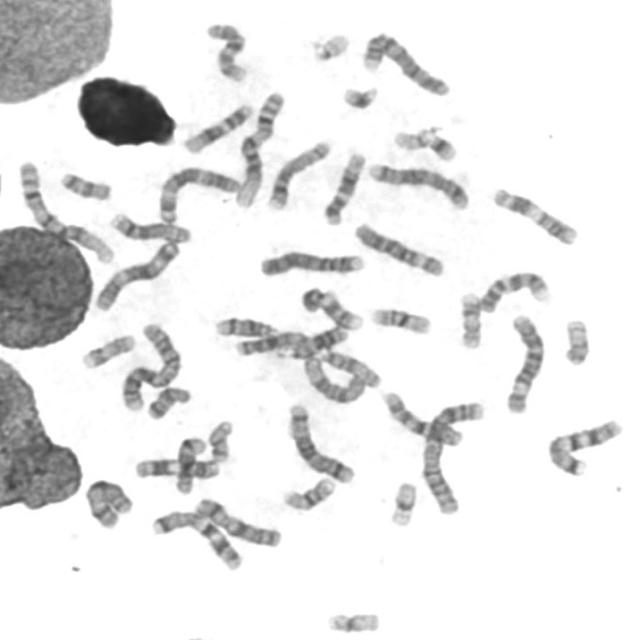A1: (13, 155, 119, 266), (232, 87, 288, 210)
A2: (418, 395, 490, 517), (116, 317, 185, 413)
A3: (90, 235, 184, 313), (155, 161, 245, 225)
B4: (359, 27, 454, 98), (257, 246, 368, 278)
B5: (284, 397, 358, 485), (364, 157, 474, 211)
C10: (378, 384, 468, 449), (202, 18, 252, 84)
C11: (489, 182, 583, 248), (130, 452, 224, 481)
C12: (179, 97, 258, 156), (320, 146, 369, 226)
C6: (350, 218, 449, 278), (500, 309, 549, 415)
C7: (148, 505, 246, 573), (542, 414, 626, 478)
C8: (264, 134, 335, 211), (106, 207, 195, 244)
C9: (476, 266, 554, 314), (297, 282, 366, 332)
D13: (232, 327, 314, 358), (282, 322, 350, 359)
D14: (167, 434, 215, 494), (211, 312, 282, 339)
D15: (299, 352, 369, 406), (316, 343, 385, 390)
E16: (279, 472, 339, 512), (368, 302, 437, 336)
E17: (77, 328, 138, 371), (455, 287, 486, 351)
E18: (56, 166, 116, 202), (143, 380, 195, 421)
F19: (385, 476, 421, 528), (323, 606, 384, 635)
F20: (560, 314, 594, 368), (205, 415, 237, 463)
G21: (423, 126, 461, 163), (338, 80, 382, 111)
G22: (308, 27, 353, 63), (390, 124, 435, 152)
X: (190, 493, 286, 549), (80, 474, 137, 531)
